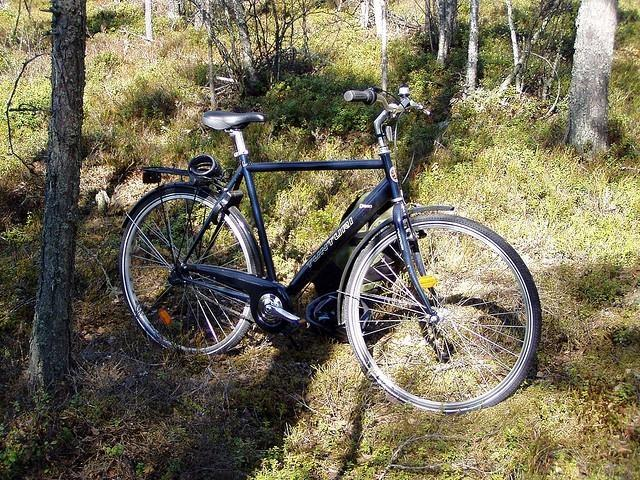bicycle: (119, 86, 542, 416)
